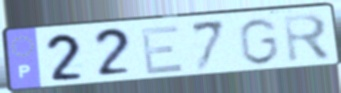2: (90, 26, 139, 82), (43, 31, 90, 85)
7: (191, 17, 227, 74)
E: (138, 23, 186, 77)
G: (236, 17, 281, 67)
R: (281, 12, 334, 65)
